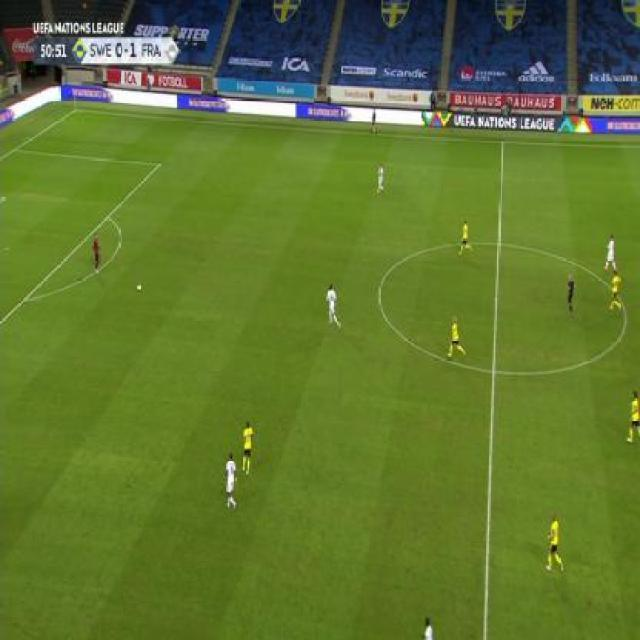ball: (136, 282, 141, 293)
player: (544, 512, 566, 577), (239, 419, 256, 479), (223, 452, 239, 511), (447, 315, 466, 360), (625, 389, 639, 446), (325, 282, 341, 330), (457, 218, 473, 257), (608, 270, 622, 313), (604, 234, 618, 274), (566, 273, 577, 319), (91, 232, 102, 277), (421, 615, 434, 640), (377, 161, 386, 195), (370, 107, 378, 135)
